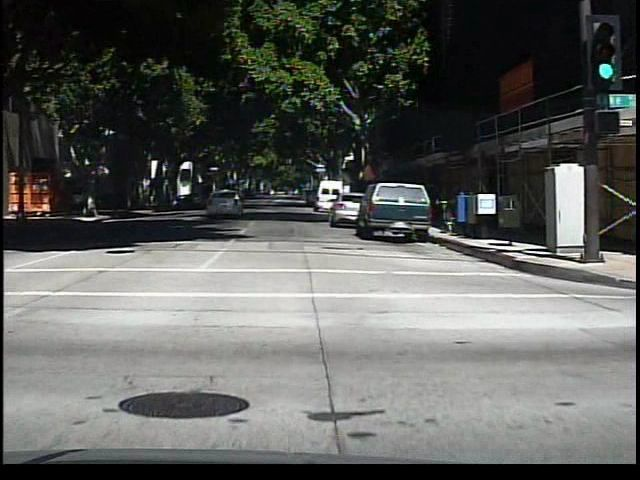person: (72, 184, 89, 219)
